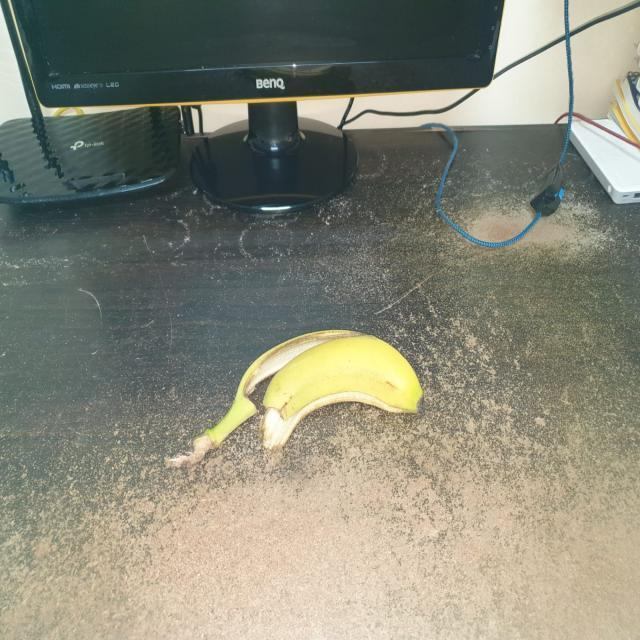banana-peel: (164, 327, 423, 470)
